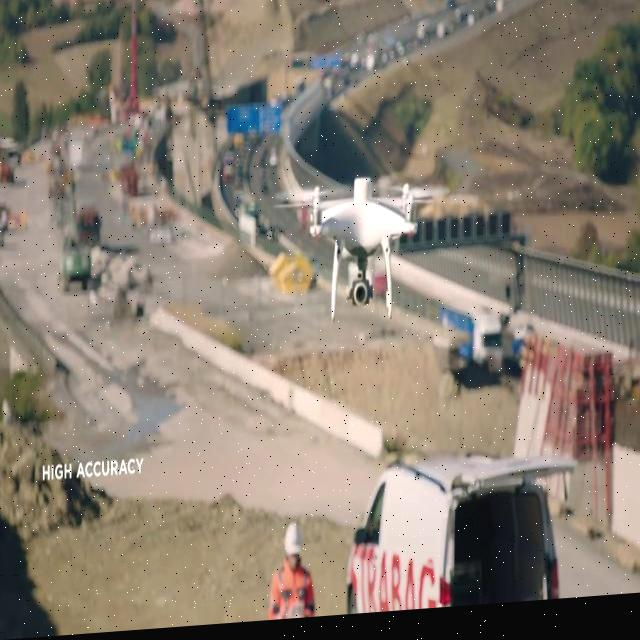drone: (276, 171, 452, 334)
